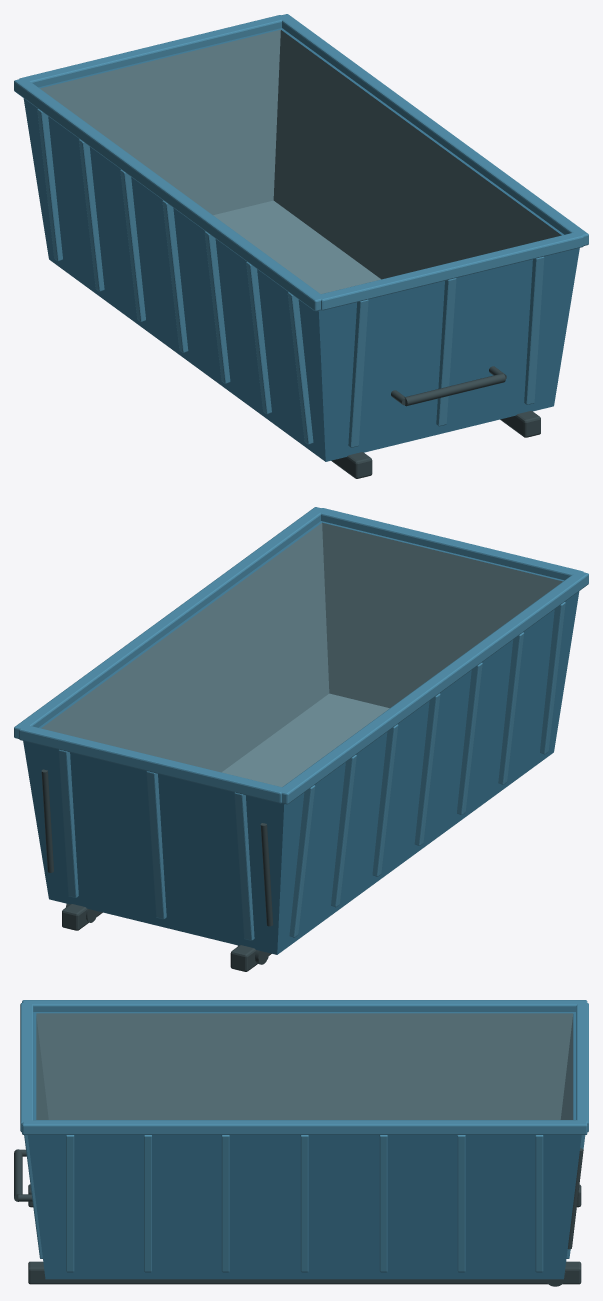
The model's file is dumpster_large_rolloff.glb.
The picture shows the model from 3 angles, top to bottom: view 1: azimuth 30°, elevation 25°; view 2: azimuth 150°, elevation 25°; view 3: azimuth 270°, elevation 25°; orthographic projection. The views are drawn at different scales.
Parts seen in each view (by area): view 1: Open roll-off container, Long top lip, Long top lip.001, End top lip, End top lip.001, End wall stiffener.002, End wall stiffener, End wall stiffener.001, Vertical side stiffener.005, Vertical side stiffener, Vertical side stiffener.001, Vertical side stiffener.002 (+6 smaller); view 2: Open roll-off container, Long top lip, Long top lip.001, End top lip.001, End top lip, End wall stiffener.004, End wall stiffener.005, End wall stiffener.003, Vertical side stiffener.001, Vertical side stiffener.006, Vertical side stiffener, Vertical side stiffener.003 (+7 smaller); view 3: Open roll-off container, Long top lip.001, Long top lip, Underbody skid.001, End top lip, End top lip.001, Vertical side stiffener.012, Vertical side stiffener.013, Vertical side stiffener.007, Vertical side stiffener.009, Vertical side stiffener.010, Vertical side stiffener.011 (+4 smaller).
Boxes of the visible parts, x1,y1,x2,y2 form: Open roll-off container: (23,28,579,461); Long top lip: (14,79,324,311); Long top lip.001: (278,14,588,245); End top lip: (317,232,583,310); End top lip.001: (19,15,285,87); End wall stiffener.002: (524,256,544,404); End wall stiffener: (348,299,368,447); End wall stiffener.001: (436,278,456,426); Vertical side stiffener.005: (78,139,104,291); Vertical side stiffener: (287,292,313,444); Vertical side stiffener.001: (246,262,271,414); Vertical side stiffener.002: (204,231,230,383); Open roll-off container: (23,521,579,954); Long top lip: (278,572,588,804); Long top lip.001: (14,507,322,738); End top lip.001: (19,725,284,803); End top lip: (317,508,583,580); End wall stiffener.004: (146,771,166,919); End wall stiffener.005: (58,749,78,897); End wall stiffener.003: (234,792,254,940); Vertical side stiffener.001: (498,632,524,784); Vertical side stiffener.006: (289,785,315,937); Vertical side stiffener: (540,602,565,754); Vertical side stiffener.003: (414,693,440,845); Open roll-off container: (27,1012,581,1279); Long top lip.001: (22,1120,587,1134); Long top lip: (22,1000,587,1011); Underbody skid.001: (28,1261,581,1284); End top lip: (20,1003,33,1132); End top lip.001: (576,1003,588,1132); Vertical side stiffener.012: (457,1135,465,1272); Vertical side stiffener.013: (535,1135,543,1272); Vertical side stiffener.007: (66,1135,74,1272); Vertical side stiffener.009: (221,1135,229,1272); Vertical side stiffener.010: (300,1135,308,1272); Vertical side stiffener.011: (379,1135,387,1272).
Bounding box in the file's own units: 2.41 × 1.61 × 4.66.
